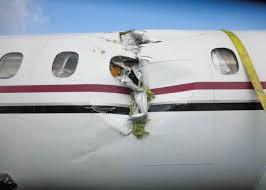Fuselage_damage: (98, 20, 170, 150)
